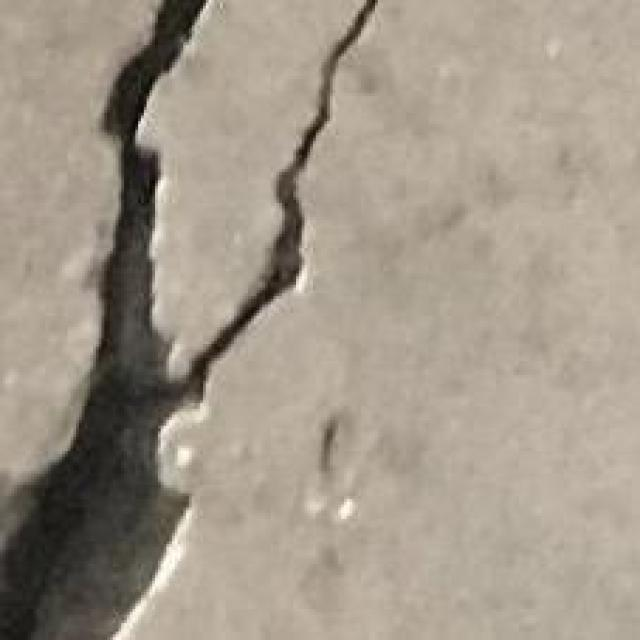branched cracks: (0, 0, 362, 639)
